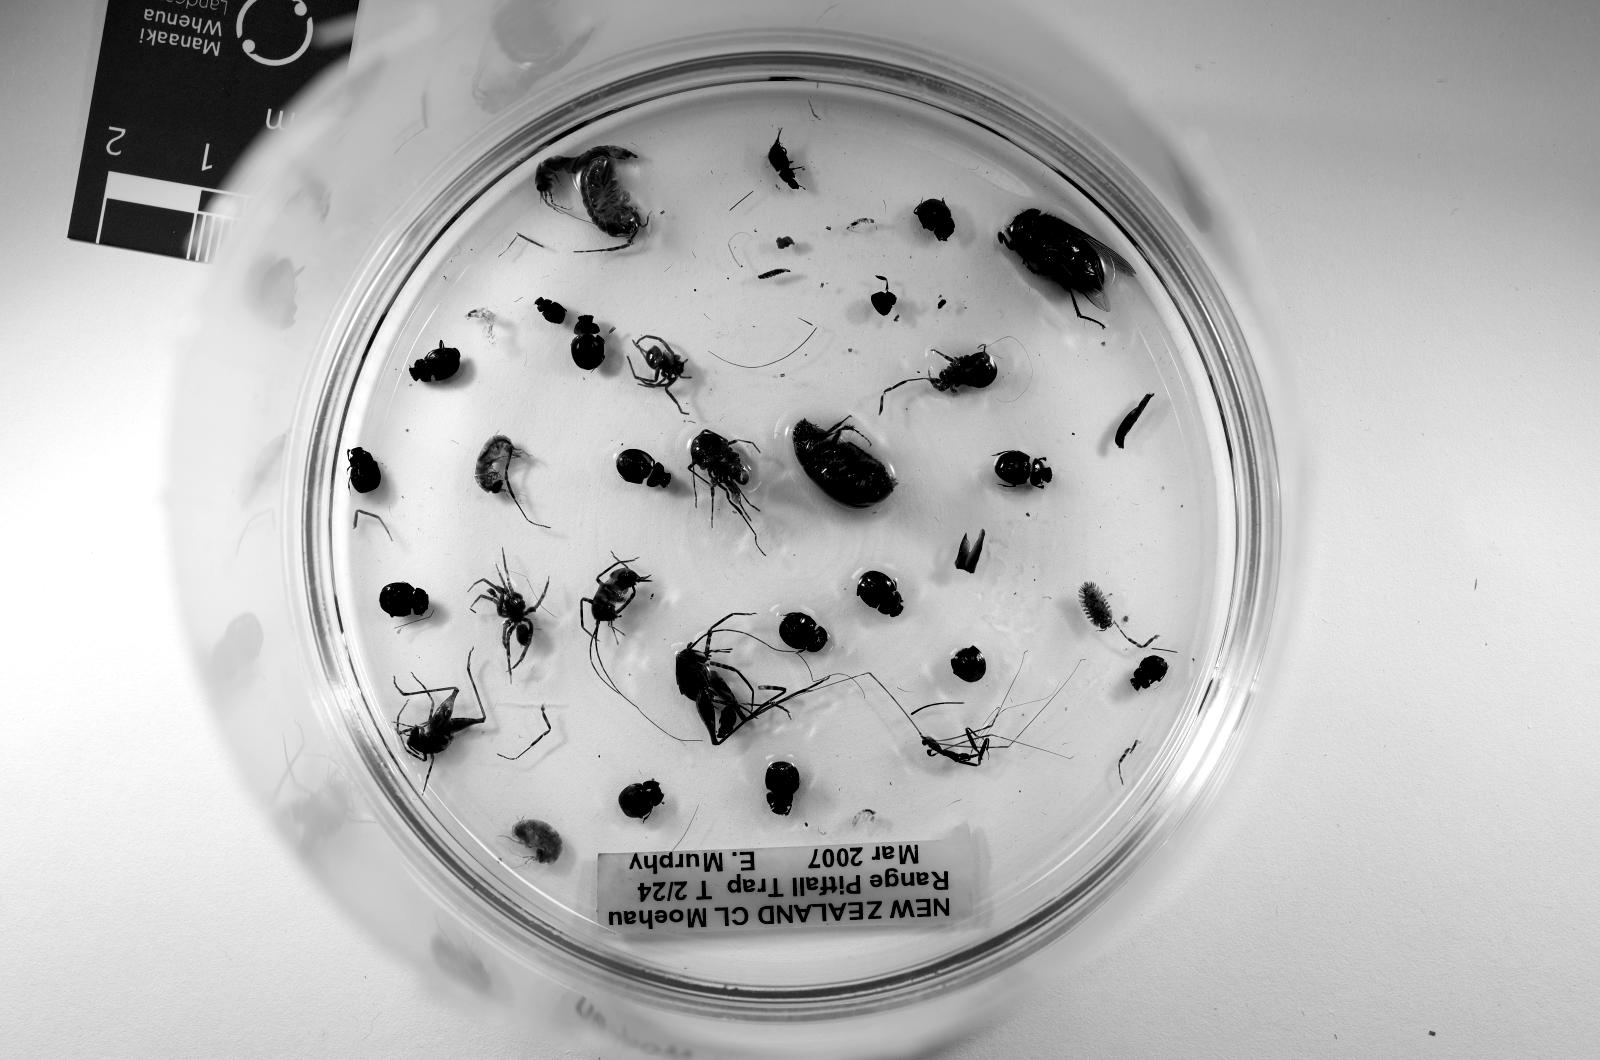amphipoda: (475, 435, 529, 500), (512, 820, 563, 864)
araneae: (475, 556, 546, 677), (628, 336, 691, 413)
coleoptera: (793, 419, 896, 506), (993, 451, 1054, 487), (856, 571, 903, 618), (616, 451, 672, 487), (409, 342, 459, 382), (778, 612, 828, 652), (765, 761, 799, 816), (769, 128, 799, 189), (915, 199, 957, 243), (618, 780, 662, 820), (378, 584, 428, 618), (572, 317, 603, 369), (346, 447, 381, 493), (1132, 655, 1168, 690), (535, 298, 565, 327)
diptera: (997, 208, 1132, 323)
isopoda: (575, 155, 643, 245), (1078, 581, 1113, 631), (618, 245, 626, 248)
opiliones: (687, 428, 757, 531), (928, 348, 997, 394)
orthoptera: (675, 612, 828, 745), (394, 652, 485, 776), (582, 558, 650, 658)
reduviidae: (922, 705, 1016, 767)
